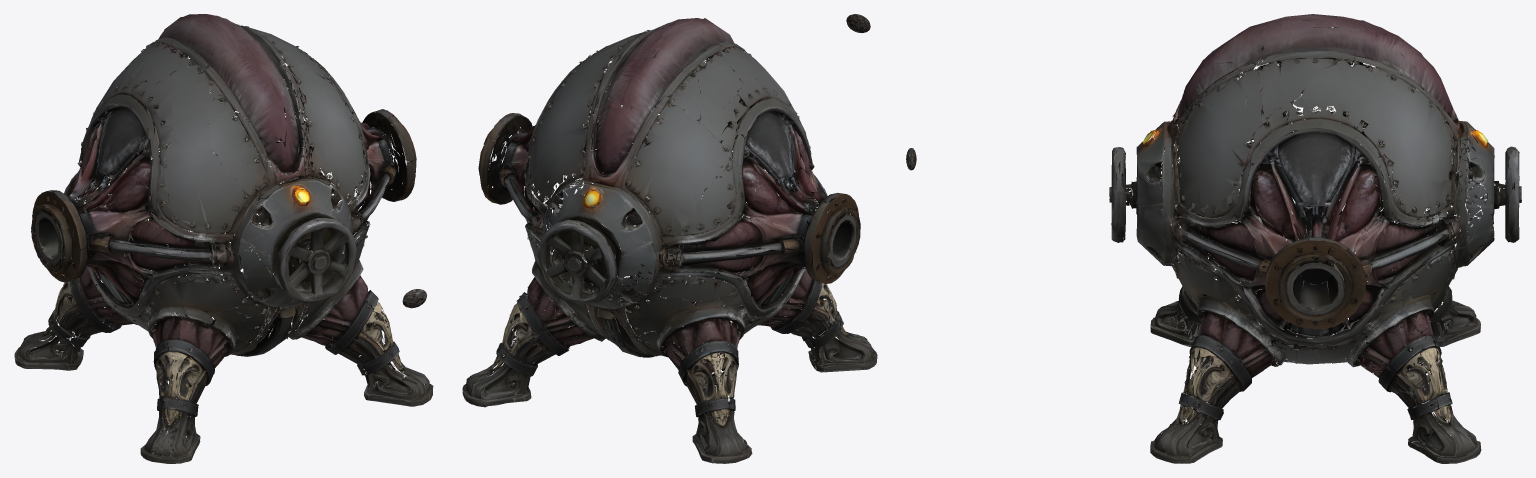
The model's file is hazard_source_steam_heart.glb.
3 views of the same model, side by side, from view 1: azimuth 30°, elevation 25°; view 2: azimuth 150°, elevation 25°; view 3: azimuth 270°, elevation 25° (orthographic). The views are drawn at different scales.
Visible parts, largest first — view 1: node_0; view 2: node_0; view 3: node_0.
Part boxes in pixels (x1,y1,x2,y2): node_0: (14,14,433,463); node_0: (462,18,877,463); node_0: (1109,14,1521,463).
Bounding box in the file's own units: 0.8476 × 0.8094 × 1.21.
1 material, 1 textured.
